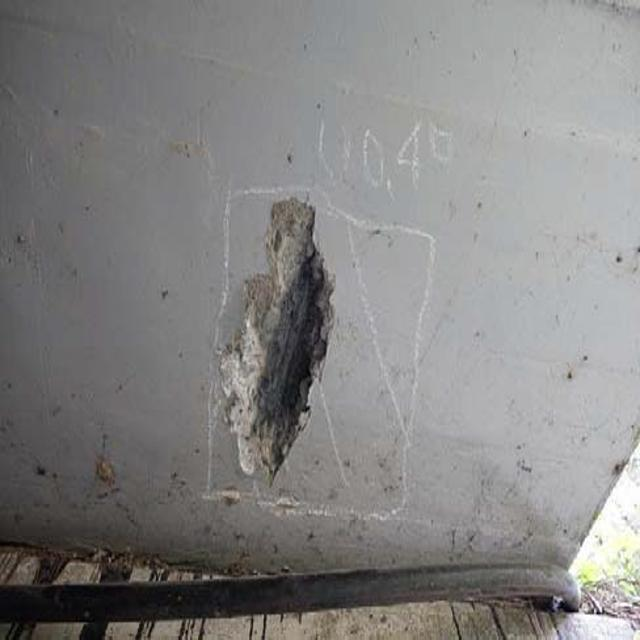spalling: (207, 184, 352, 503)
